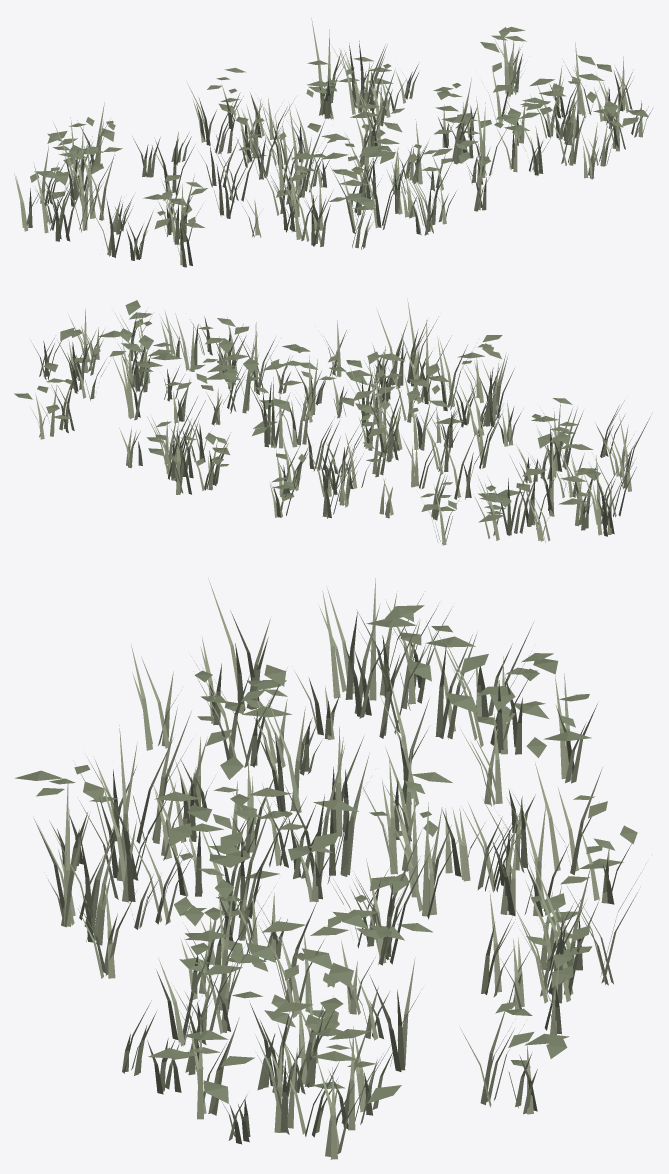
File: AE_Encroachment_22.fbx
The picture shows the model from 3 angles, top to bottom: view 1: azimuth 30°, elevation 25°; view 2: azimuth 150°, elevation 25°; view 3: azimuth 270°, elevation 25°; orthographic projection. The views are drawn at different scales.
Visible parts, largest first — view 1: AE_Encroachment_22_LOD0; view 2: AE_Encroachment_22_LOD0; view 3: AE_Encroachment_22_LOD0.
Boxes of the visible parts, x1=… form: AE_Encroachment_22_LOD0: x1=14, y1=17, x2=652, y2=267; AE_Encroachment_22_LOD0: x1=14, y1=298, x2=651, y2=545; AE_Encroachment_22_LOD0: x1=15, y1=578, x2=646, y2=1159.
Size of what is drawn, in the model's own units: 782 by 109 by 447.
